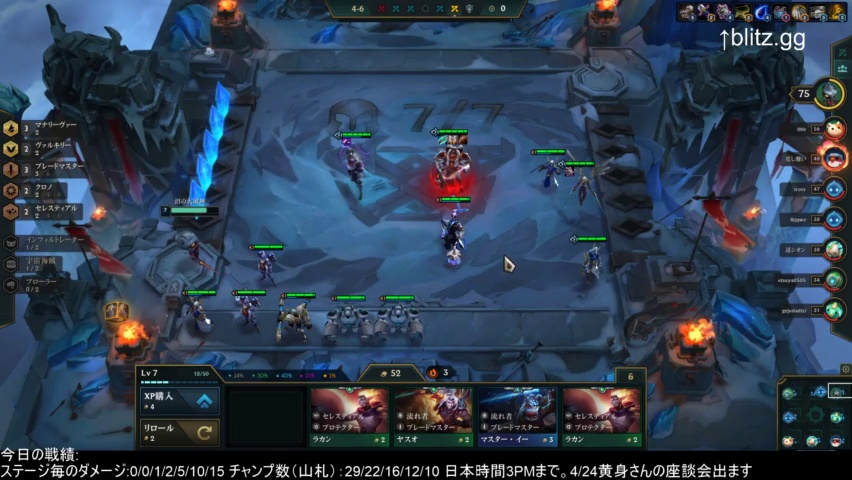blitzcrank: (325, 289, 374, 357), (375, 289, 423, 352)
darius*2:gunblade,GA,dragonsclaw: (425, 128, 473, 205)
kaisa: (232, 284, 270, 343), (247, 240, 284, 287)
kassadin: (179, 284, 223, 343), (528, 143, 568, 196)
kayle*2: rod: (558, 161, 613, 236)
shen*2: portal: (330, 129, 383, 209)
thresh: (428, 195, 481, 275)
wukong: (268, 287, 323, 349)
